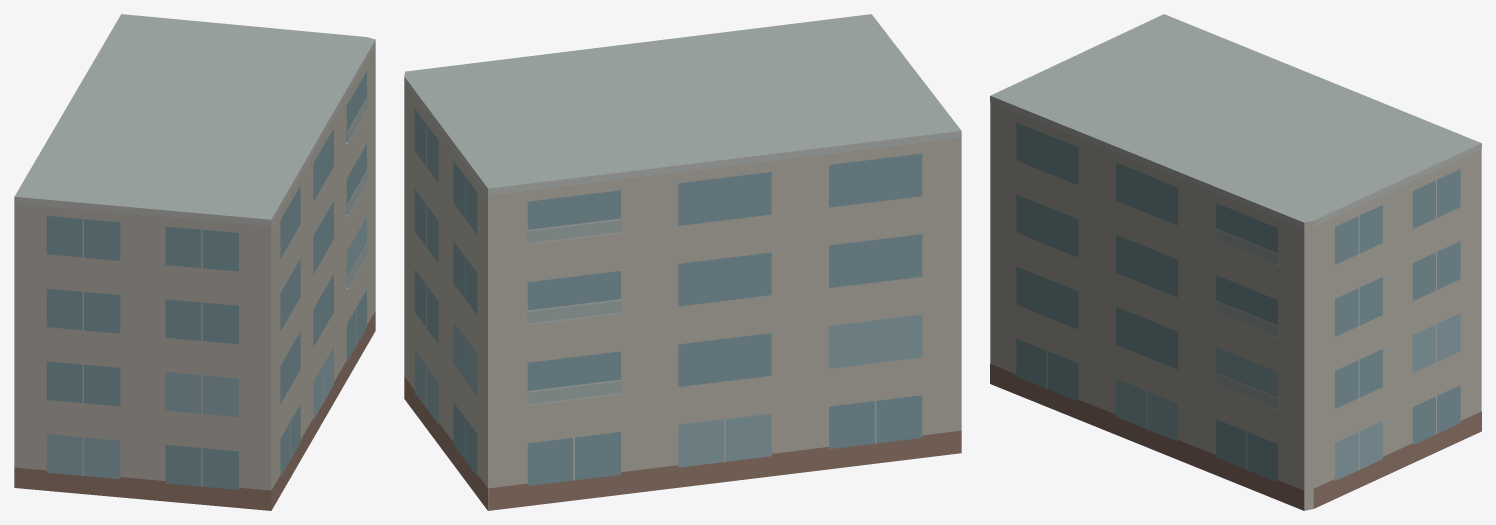
File: survey-upis-32909064.glb
3 renders of one model, left to right at view 1: azimuth 30°, elevation 25°; view 2: azimuth 150°, elevation 25°; view 3: azimuth 270°, elevation 25°, orthographic. The views are drawn at different scales.
Parts seen in each view (by area): view 1: survey-upis-32909064.tmp; view 2: survey-upis-32909064.tmp; view 3: survey-upis-32909064.tmp.
Boxes of the visible parts, <box> form: survey-upis-32909064.tmp: <box>14,14,375,510</box>; survey-upis-32909064.tmp: <box>404,14,961,510</box>; survey-upis-32909064.tmp: <box>990,14,1481,510</box>.
Bounding box in the file's own units: 17.42 × 11.21 × 17.34.
